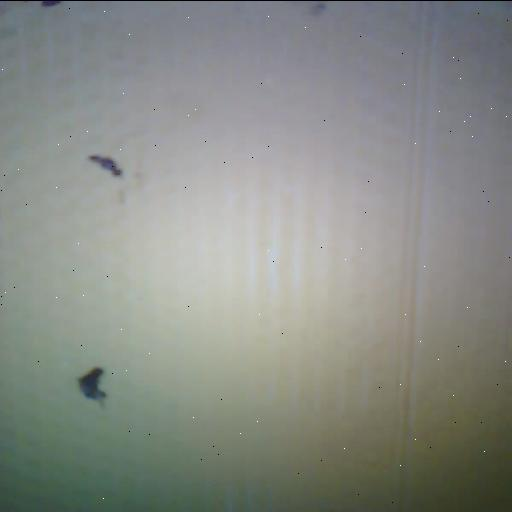Insects: (77, 366, 107, 406), (89, 154, 121, 175)
dust: (306, 0, 326, 14), (41, 0, 61, 4)
